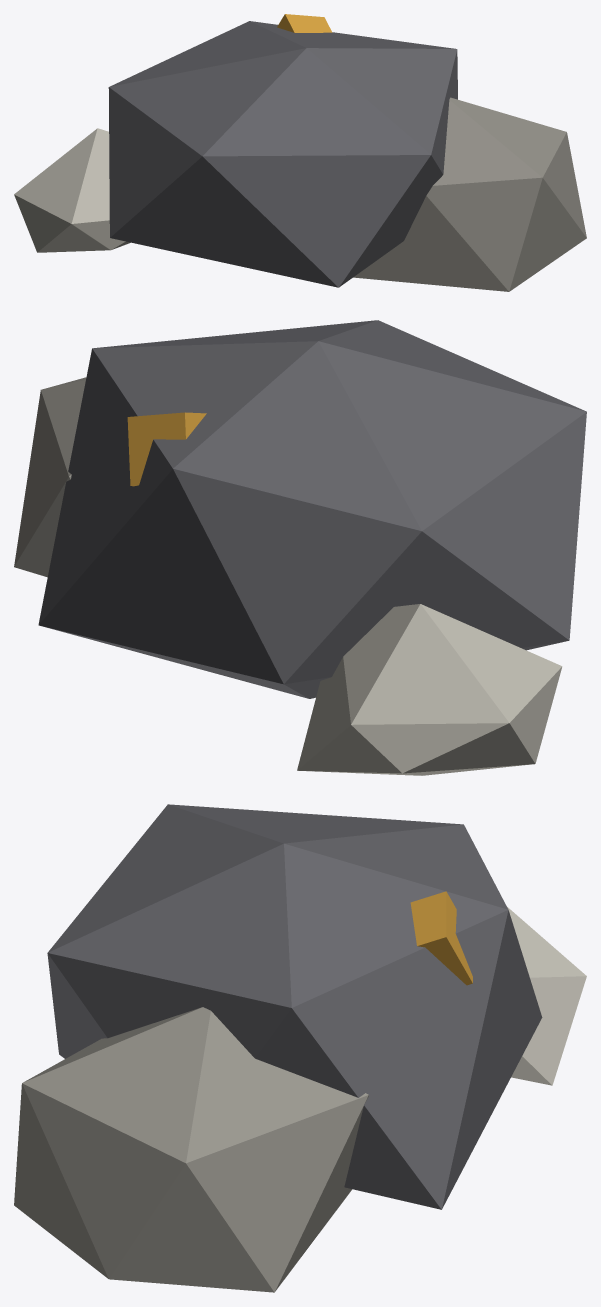
File: rock_cluster.glb
The picture shows the model from 3 angles, top to bottom: view 1: azimuth 30°, elevation 25°; view 2: azimuth 150°, elevation 25°; view 3: azimuth 270°, elevation 25°; orthographic projection. The views are drawn at different scales.
Parts seen in each view (by area): view 1: rock_main, rock_side, rock_small, ore_0; view 2: rock_main, rock_small, rock_side, ore_0; view 3: rock_main, rock_side, rock_small, ore_0.
Boxes of the visible parts, x1=… form: rock_main: x1=108, y1=21, x2=457, y2=287; rock_side: x1=353, y1=97, x2=586, y2=291; rock_small: x1=14, y1=128, x2=130, y2=252; ore_0: x1=277, y1=14, x2=332, y2=32; rock_main: x1=38, y1=320, x2=586, y2=698; rock_small: x1=297, y1=604, x2=562, y2=775; rock_side: x1=14, y1=377, x2=86, y2=577; ore_0: x1=127, y1=412, x2=206, y2=486; rock_main: x1=47, y1=804, x2=542, y2=1209; rock_side: x1=14, y1=1007, x2=368, y2=1292; rock_small: x1=507, y1=907, x2=586, y2=1085; ore_0: x1=410, y1=891, x2=472, y2=985.
Size of the model in its own units: 1.16 by 0.5931 by 0.9244.
